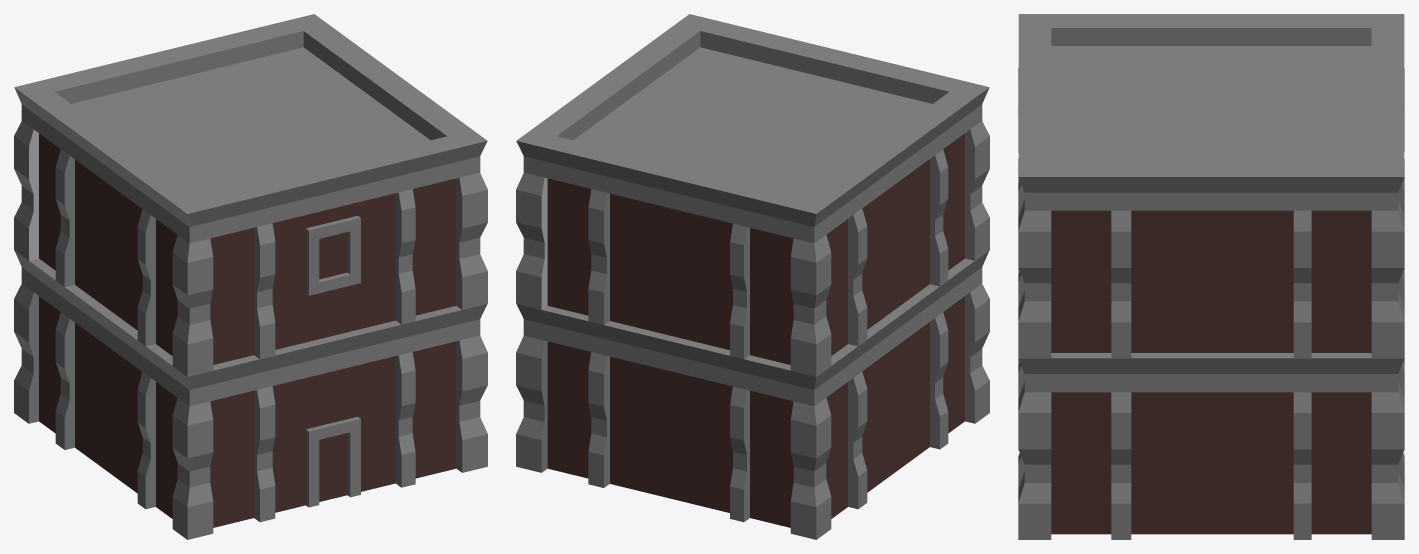
Rendered from CASALUKEEXPORT.fbx.
3 renders of one model, left to right at view 1: azimuth 30°, elevation 25°; view 2: azimuth 150°, elevation 25°; view 3: azimuth 270°, elevation 25°, orthographic. The views are drawn at different scales.
Visible parts, largest first — view 1: group192_pasted__group191_pasted__pasted__group75_pasted__pa, pasted__pasted__group4_pasted__pasted__pCube10, group4_pasted__pasted__pCube3, pasted__pasted__pCube10, pasted__pasted__group4_pasted__pasted__pCube11, pasted__pCube2, pasted__pasted__group4_pasted__pasted__pCube4, pasted__pasted__pCube2, pasted__pasted__pasted__pCube9, pasted__pasted__pasted__pasted__pCube15, pasted__pasted__pasted__pasted__pasted__pCube2, pasted__pasted__group4_pasted__pasted__pCube12 (+2 smaller); view 2: group192_pasted__group191_pasted__pasted__group75_pasted__pa, pasted__pasted__group4_pasted__pasted__pCube12, pasted__pasted__pasted__group4_pasted__pasted__pCube3, pasted__pasted__pasted__pasted__pCube15, pasted__pasted__group4_pasted__pasted__pCube11, pasted__pasted__pasted__pasted__pasted__pCube2, pasted__pasted__group4_pasted__pasted__pCube4, pasted__pasted__pasted__pasted__pCube2, pasted__pasted__pasted__pCube2, pasted__pasted__pCube10, pasted__pCube2, pasted__pasted__group4_pasted__pasted__pCube10 (+2 smaller); view 3: pasted__group4_pasted__pasted__pCube3, group192_pasted__group191_pasted__pasted__group75_pasted__pa, pasted__pasted__group4_pasted__pasted__pCube3, pasted__pasted__pCube2, pasted__pasted__pasted__pasted__pCube2, pasted__pasted__pasted__pCube9, pasted__pasted__pasted__pCube2, pasted__pasted__group4_pasted__pasted__pCube11, pasted__pasted__pCube10, pasted__pasted__pasted__pasted__pCube15, pasted__pasted__group4_pasted__pasted__pCube12, pasted__pasted__group4_pasted__pasted__pCube10.
Boxes of the visible parts, left/top/right/bottom form: group192_pasted__group191_pasted__pasted__group75_pasted__pa: left=71, top=47, right=429, bottom=196; pasted__pasted__group4_pasted__pasted__pCube10: left=245, top=147, right=415, bottom=359; group4_pasted__pasted__pCube3: left=254, top=320, right=415, bottom=522; pasted__pasted__pCube10: left=146, top=177, right=259, bottom=376; pasted__pasted__group4_pasted__pasted__pCube11: left=55, top=111, right=170, bottom=346; pasted__pCube2: left=146, top=344, right=259, bottom=539; pasted__pasted__group4_pasted__pasted__pCube4: left=55, top=281, right=155, bottom=509; pasted__pasted__pCube2: left=401, top=110, right=487, bottom=315; pasted__pasted__pasted__pCube9: left=412, top=304, right=487, bottom=478; pasted__pasted__pasted__pasted__pCube15: left=14, top=69, right=101, bottom=270; pasted__pasted__pasted__pasted__pasted__pCube2: left=14, top=250, right=60, bottom=433; pasted__pasted__group4_pasted__pasted__pCube12: left=87, top=31, right=256, bottom=96; group192_pasted__group191_pasted__pasted__group75_pasted__pa: left=574, top=47, right=932, bottom=196; pasted__pasted__group4_pasted__pasted__pCube12: left=588, top=147, right=758, bottom=359; pasted__pasted__pasted__group4_pasted__pasted__pCube3: left=588, top=321, right=749, bottom=522; pasted__pasted__pasted__pasted__pCube15: left=744, top=177, right=857, bottom=376; pasted__pasted__group4_pasted__pasted__pCube11: left=833, top=111, right=948, bottom=346; pasted__pasted__pasted__pasted__pasted__pCube2: left=744, top=344, right=857, bottom=539; pasted__pasted__group4_pasted__pasted__pCube4: left=848, top=281, right=948, bottom=509; pasted__pasted__pasted__pasted__pCube2: left=516, top=110, right=602, bottom=315; pasted__pasted__pasted__pCube2: left=516, top=304, right=591, bottom=478; pasted__pasted__pCube10: left=902, top=69, right=989, bottom=270; pasted__pCube2: left=943, top=250, right=989, bottom=433; pasted__pasted__group4_pasted__pasted__pCube10: left=747, top=31, right=916, bottom=96; pasted__group4_pasted__pasted__pCube3: left=1111, top=163, right=1311, bottom=358; group192_pasted__group191_pasted__pasted__group75_pasted__pa: left=1051, top=46, right=1371, bottom=163; pasted__pasted__group4_pasted__pasted__pCube3: left=1111, top=353, right=1311, bottom=539; pasted__pasted__pCube2: left=1018, top=138, right=1111, bottom=358; pasted__pasted__pasted__pasted__pCube2: left=1311, top=138, right=1404, bottom=358; pasted__pasted__pasted__pCube9: left=1018, top=353, right=1111, bottom=539; pasted__pasted__pasted__pCube2: left=1311, top=353, right=1404, bottom=539; pasted__pasted__group4_pasted__pasted__pCube11: left=1111, top=14, right=1311, bottom=45; pasted__pasted__pCube10: left=1018, top=14, right=1111, bottom=183; pasted__pasted__pasted__pasted__pCube15: left=1311, top=14, right=1404, bottom=182; pasted__pasted__group4_pasted__pasted__pCube12: left=1371, top=53, right=1404, bottom=307; pasted__pasted__group4_pasted__pasted__pCube10: left=1018, top=53, right=1051, bottom=307.
Bounding box in the file's own units: 9.65 × 10 × 9.65.
